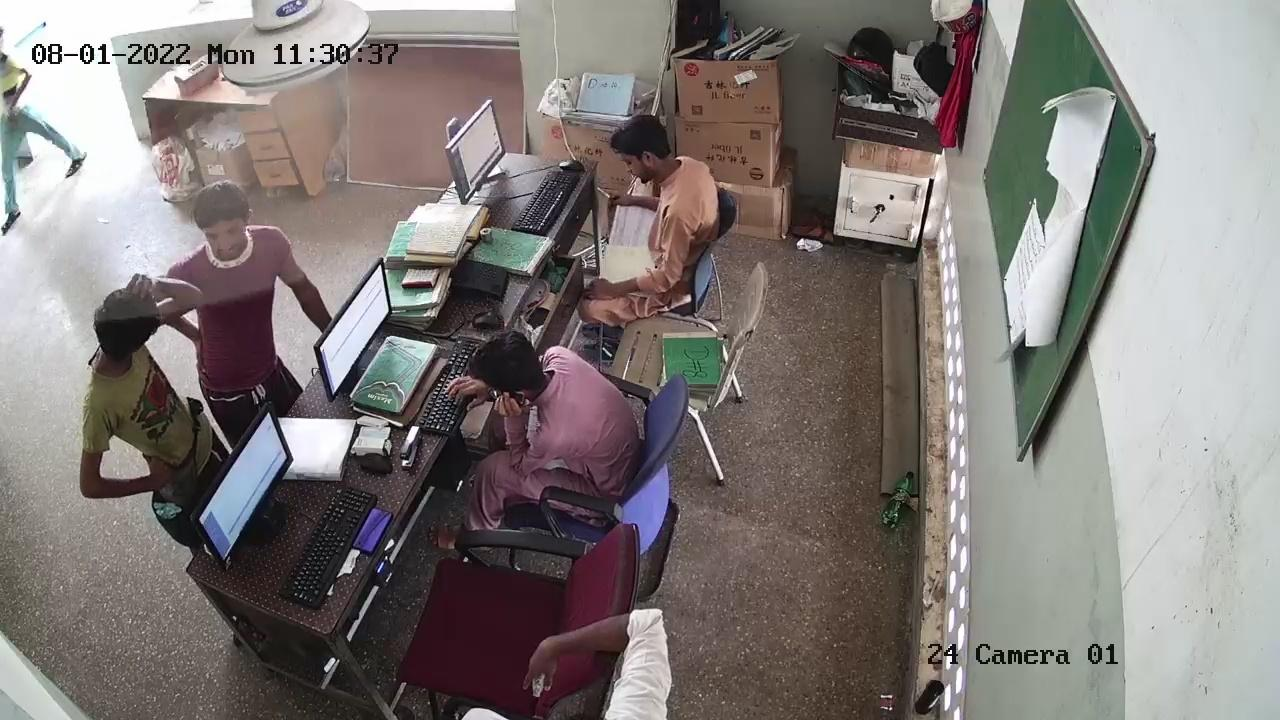person: (606, 107, 722, 322), (497, 345, 655, 457), (86, 298, 195, 443), (189, 203, 277, 372), (0, 60, 89, 212)
